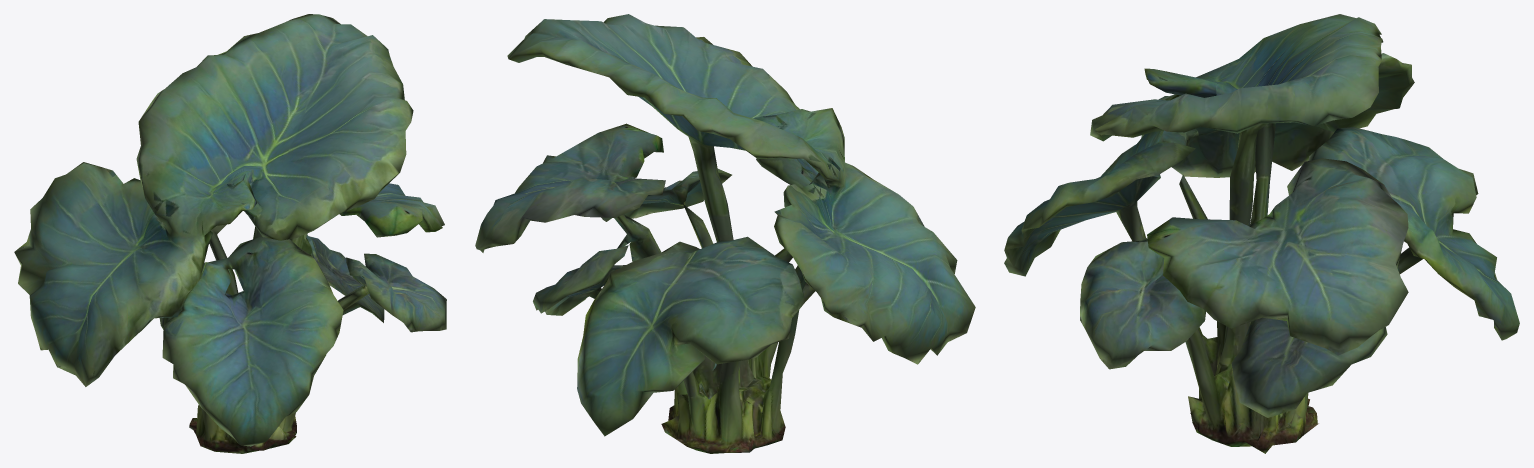
The model's file is Blue_Foliage_Fantasy_0924130515_texture.fbx.
3 renders of one model, left to right at view 1: azimuth 30°, elevation 25°; view 2: azimuth 150°, elevation 25°; view 3: azimuth 270°, elevation 25°, orthographic. The views are drawn at different scales.
Visible parts, largest first — view 1: Mesh1.0; view 2: Mesh1.0; view 3: Mesh1.0.
Part boxes in pixels (x1,y1,x2,y2): Mesh1.0: (14, 14, 446, 453); Mesh1.0: (475, 14, 975, 453); Mesh1.0: (1004, 14, 1519, 453).
Size of the model in its own units: 200 by 182 by 196.
1 material, 1 textured.
